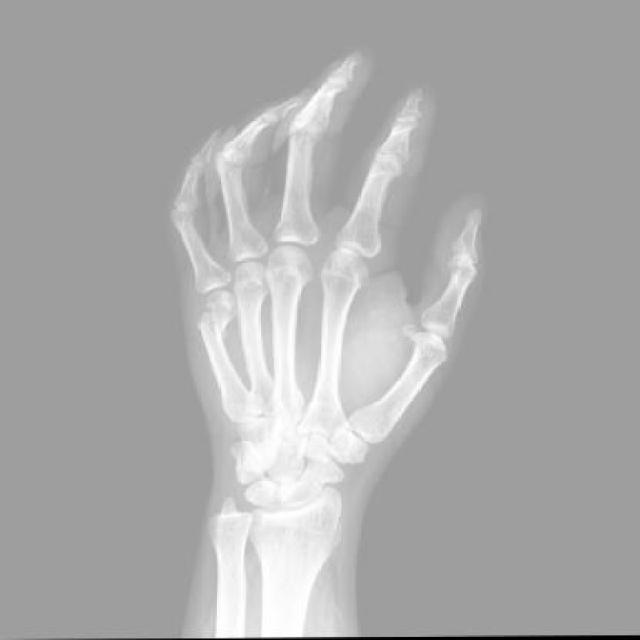Fracture: (197, 300, 234, 340)
